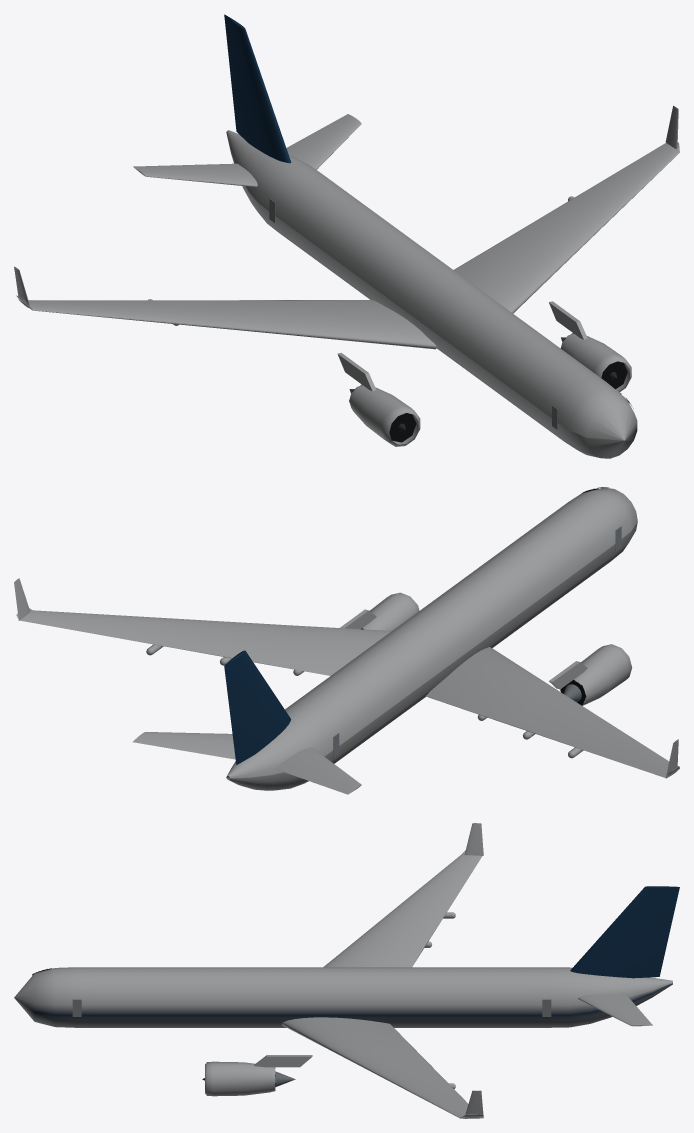
The model's file is widebody.glb.
3 renders of one model, top to bottom at view 1: azimuth 30°, elevation 25°; view 2: azimuth 150°, elevation 25°; view 3: azimuth 270°, elevation 25°, orthographic. The views are drawn at different scales.
Bounding box in the file's own units: 61.26 × 17.63 × 64.36.
